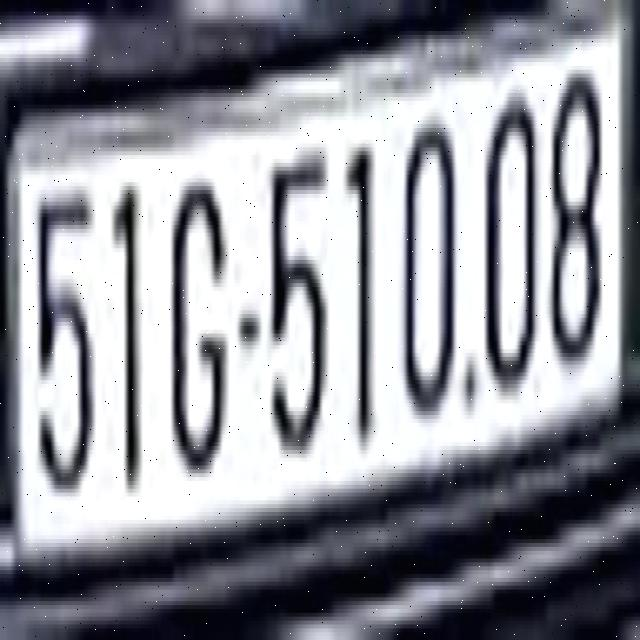0: (400, 99, 457, 429), (483, 82, 537, 400)
1: (340, 112, 382, 454), (108, 163, 146, 500)
5: (267, 124, 330, 469), (34, 169, 96, 510)
8: (549, 59, 602, 372)
G: (168, 157, 228, 479)
